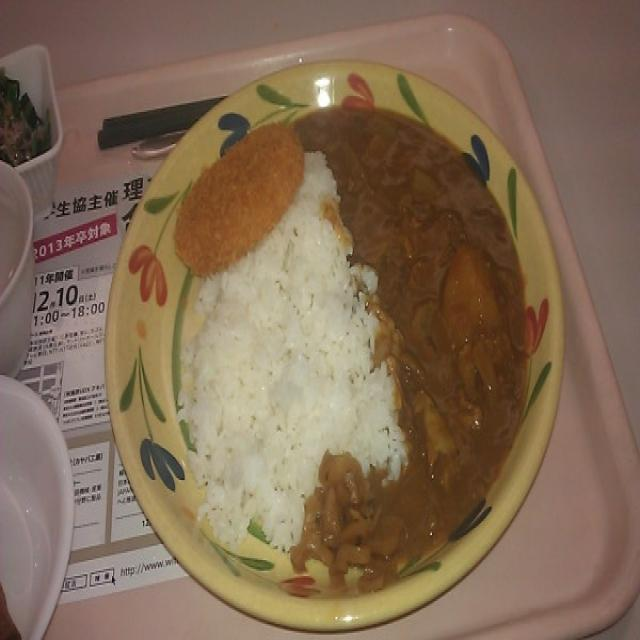Beef Curry: (355, 93, 531, 582)
Rice: (184, 257, 393, 532)
